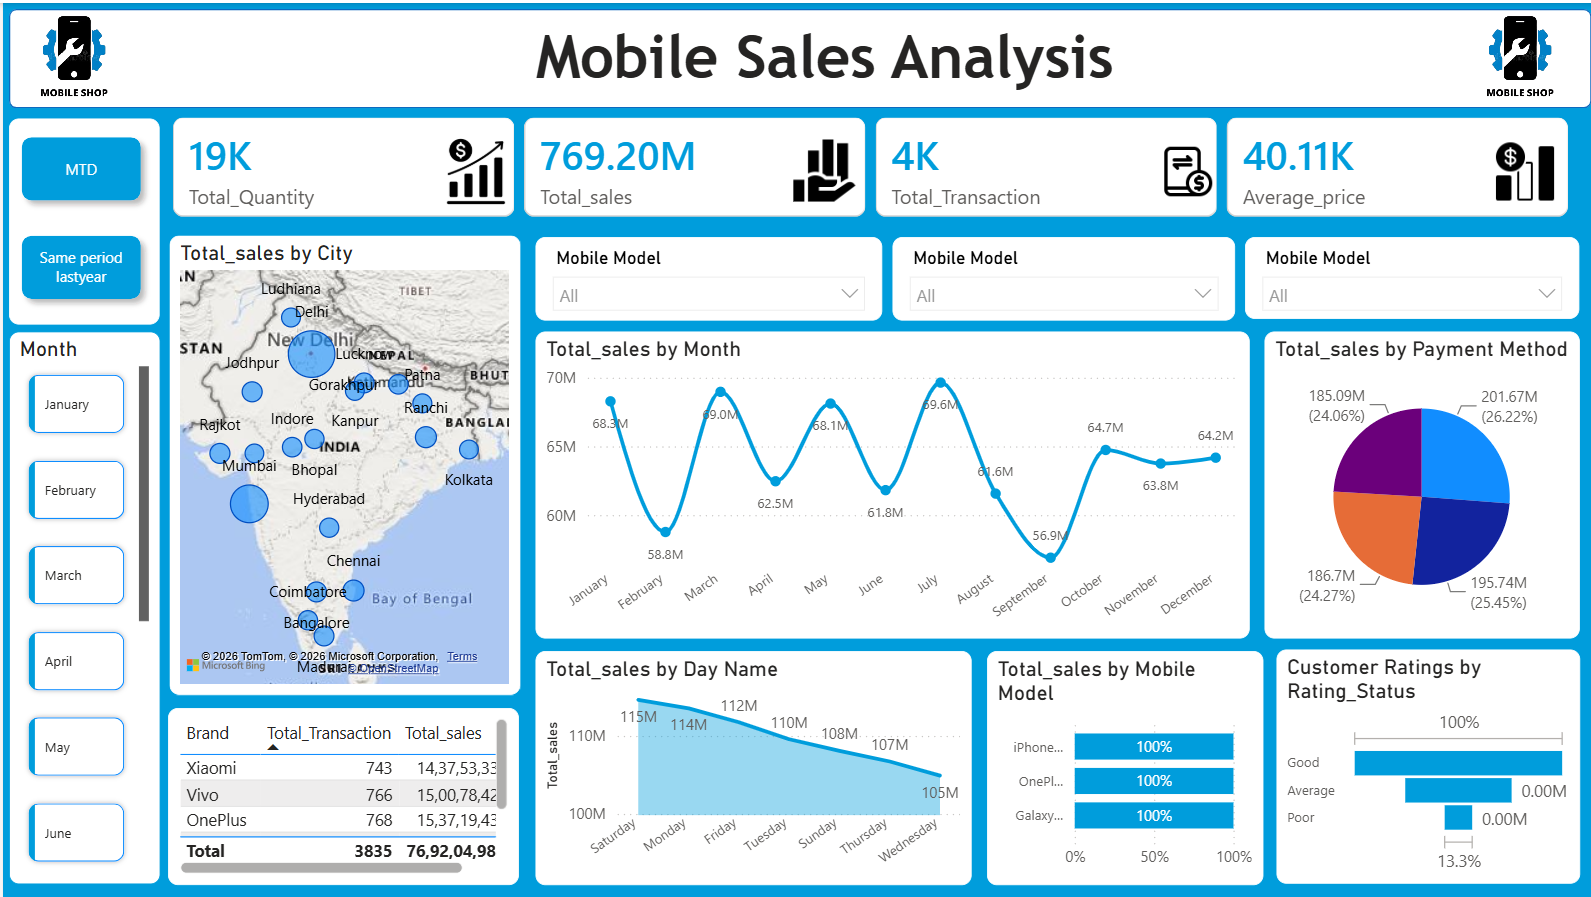

The dashboard page shown, as its layout file describes it:
{"tool":"powerbi","page":{"name":"Dashboard","canvas":[1280,720],"ordinal":0},"visuals":[{"type":"shape","box":[5.3,5.3,1274.7,80],"z":0},{"type":"advancedSlicerVisual","fields":{"Values":["Custom calander.Date.Variation.Date Hierarchy.Month"]},"box":[5,264.5,122,445.5],"z":1000},{"type":"slicer","fields":{"Values":["mobile_Sales.Mobile Model"]},"box":[429,188,279,67],"z":2000},{"type":"slicer","fields":{"Values":["mobile_Sales.Mobile Model"]},"box":[716,188,276,67],"z":3000},{"type":"slicer","fields":{"Values":["mobile_Sales.Mobile Model"]},"box":[1001,189,269,66],"z":4000},{"type":"cardVisual","fields":{"Data":["mobile_Sales.Total_Quantity","mobile_Sales.Total_sales","mobile_Sales.Total_Transaction","mobile_Sales.Average_price"]},"box":[120,75,1160,114],"z":5000},{"type":"textbox","box":[318.6,10,685.7,115.7],"z":6000},{"type":"map","fields":{"Category":["mobile_Sales.City"],"Size":["mobile_Sales.Total_sales"]},"box":[133.8,187.5,282.5,370],"z":7000},{"type":"lineChart","fields":{"Y":["mobile_Sales.Total_sales"],"Category":["Custom calander.Date.Variation.Date Hierarchy.Month"]},"box":[428.8,265,575,247.5],"z":8000},{"type":"pieChart","fields":{"Y":["mobile_Sales.Total_sales"],"Category":["mobile_Sales.Payment Method"]},"box":[1016.2,265,253.8,247.5],"z":9000},{"type":"areaChart","fields":{"Category":["Custom calander.Day Name"],"Y":["mobile_Sales.Total_sales"]},"box":[428.6,521.4,351.4,188.6],"z":10000},{"type":"hundredPercentStackedBarChart","fields":{"Y":["mobile_Sales.Total_sales"],"Category":["mobile_Sales.Mobile Model"]},"box":[792.9,521.4,222.9,188.6],"z":11000},{"type":"funnel","title":"Customer Ratings by Rating_Status","fields":{"Category":["mobile_Sales.Rating_Status"],"Y":["CountNonNull(mobile_Sales.Customer Ratings)"]},"box":[1025.6,521.1,244.4,188.9],"z":12000},{"type":"image","box":[1201.4,102.9,50,65.7],"z":13000},{"type":"image","box":[618.6,110,85.7,50],"z":14000},{"type":"image","box":[348.6,108.6,65.7,54.3],"z":15000},{"type":"image","box":[932.9,98.6,42.9,72.9],"z":16000},{"type":"tableEx","fields":{"Values":["mobile_Sales.Brand","mobile_Sales.Total_Transaction","mobile_Sales.Total_sales"]},"box":[132.5,567.5,282.5,142.5],"z":17000},{"type":"shape","box":[5,92.5,121.5,166],"z":18000},{"type":"pageNavigator","box":[6,99.1,114.8,149.8],"z":19000},{"type":"image","box":[0,4.7,114.7,74.7],"z":20000},{"type":"image","box":[1165.3,5.3,114.7,74.7],"z":21000}]}

Visuals, with their boxes in screenshot pixels (x1, y1, x2, y2), scaled from the page's 1280x720 canvas onto the 1591x897 screenshot:
shape: pyautogui.locateOnScreen(7, 7, 1590, 106)
advancedSlicerVisual - Custom calander.Date.Variation.Date Hierarchy.Month: pyautogui.locateOnScreen(6, 330, 158, 885)
slicer - mobile_Sales.Mobile Model: pyautogui.locateOnScreen(533, 234, 880, 318)
slicer - mobile_Sales.Mobile Model: pyautogui.locateOnScreen(890, 234, 1233, 318)
slicer - mobile_Sales.Mobile Model: pyautogui.locateOnScreen(1244, 235, 1579, 318)
cardVisual - mobile_Sales.Total_Quantity x mobile_Sales.Total_sales: pyautogui.locateOnScreen(149, 93, 1590, 235)
textbox: pyautogui.locateOnScreen(396, 12, 1248, 157)
map - mobile_Sales.City x mobile_Sales.Total_sales: pyautogui.locateOnScreen(166, 234, 517, 695)
lineChart - mobile_Sales.Total_sales x Custom calander.Date.Variation.Date Hierarchy.Month: pyautogui.locateOnScreen(533, 330, 1248, 638)
pieChart - mobile_Sales.Total_sales x mobile_Sales.Payment Method: pyautogui.locateOnScreen(1263, 330, 1579, 638)
areaChart - Custom calander.Day Name x mobile_Sales.Total_sales: pyautogui.locateOnScreen(533, 650, 970, 885)
hundredPercentStackedBarChart - mobile_Sales.Total_sales x mobile_Sales.Mobile Model: pyautogui.locateOnScreen(986, 650, 1263, 885)
"Customer Ratings by Rating_Status" funnel: pyautogui.locateOnScreen(1275, 649, 1579, 885)
image: pyautogui.locateOnScreen(1493, 128, 1555, 210)
image: pyautogui.locateOnScreen(769, 137, 875, 199)
image: pyautogui.locateOnScreen(433, 135, 515, 203)
image: pyautogui.locateOnScreen(1160, 123, 1213, 214)
tableEx - mobile_Sales.Brand x mobile_Sales.Total_Transaction: pyautogui.locateOnScreen(165, 707, 516, 885)
shape: pyautogui.locateOnScreen(6, 115, 157, 322)
pageNavigator: pyautogui.locateOnScreen(7, 123, 150, 310)
image: pyautogui.locateOnScreen(0, 6, 143, 99)
image: pyautogui.locateOnScreen(1448, 7, 1590, 100)
